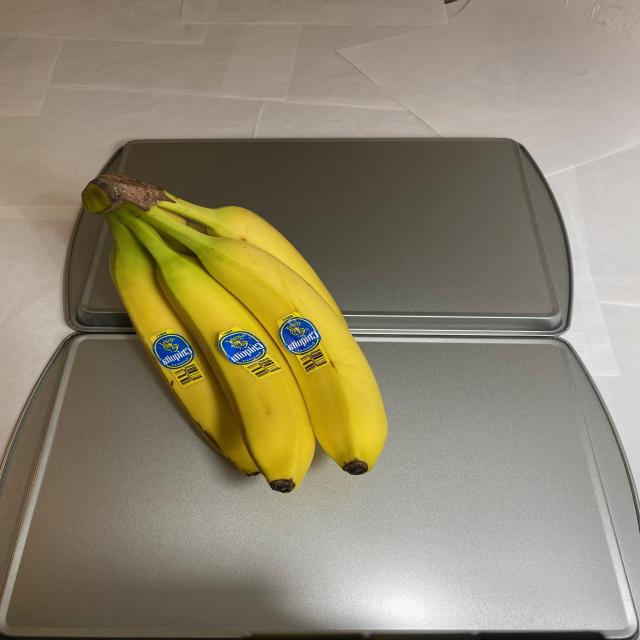banana: (70, 168, 393, 500)
